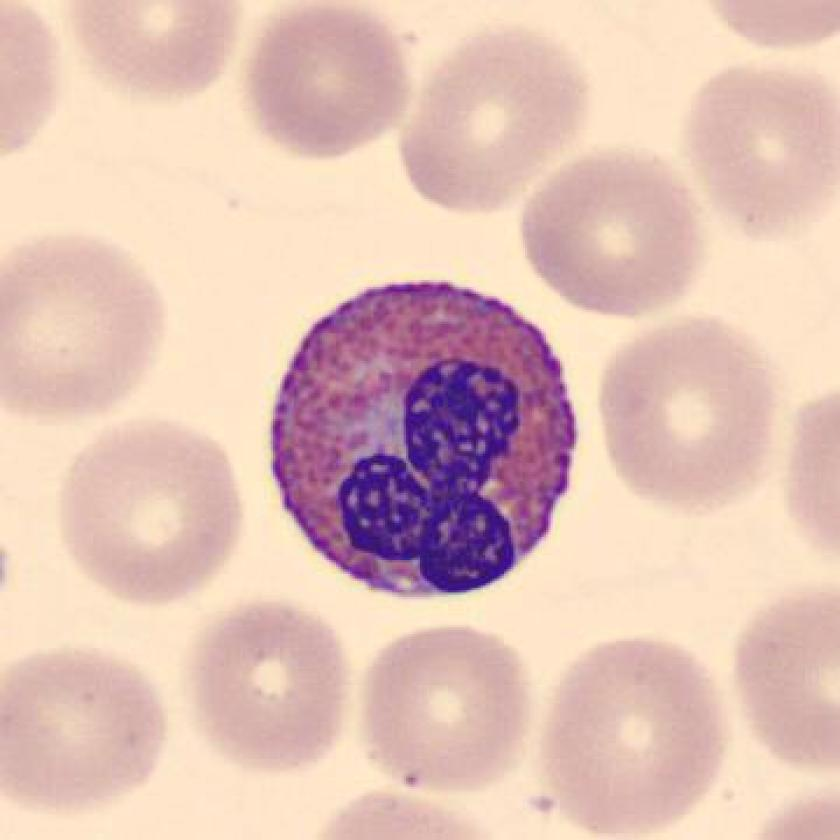eosinophil: (260, 265, 587, 612)
